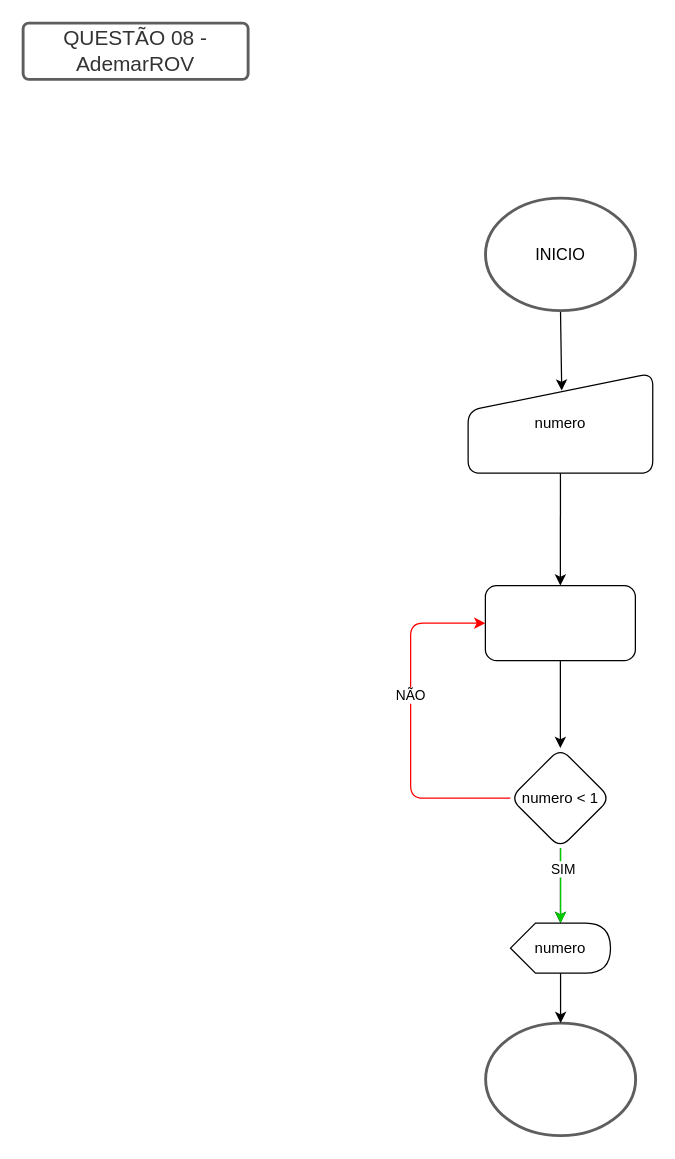
Image size: 675x1159. Some labels were removed from this diagram. Here are the shapes that lost their labels. From the top down, the centre of each, then its label:
At point 559,622: "numero <- numero / 2".
At point 560,1078: "FIM".
